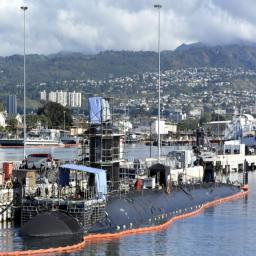submarine: (15, 97, 251, 237)
